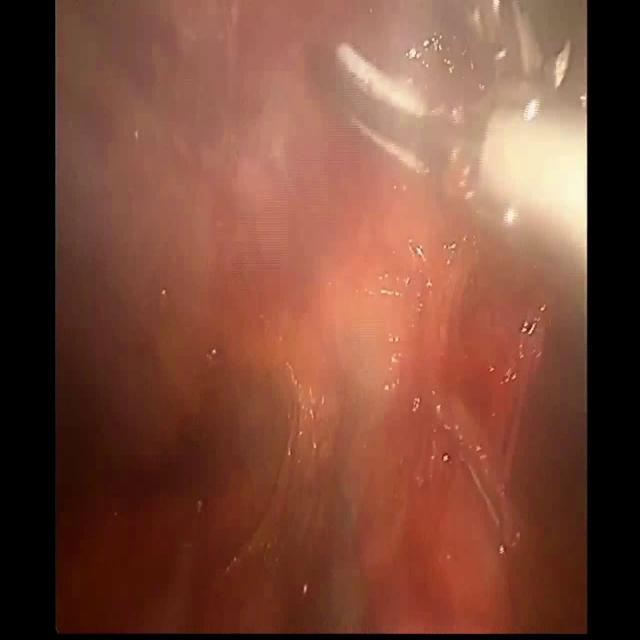surgical-area: (56, 0, 587, 636)
